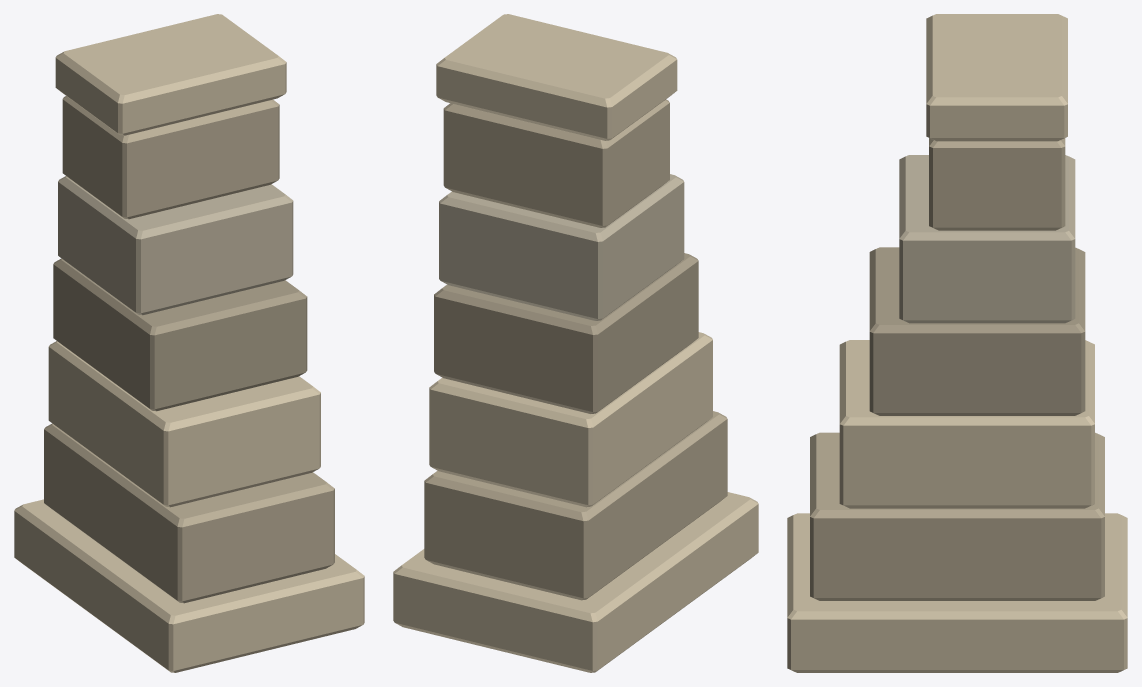
Rendered from Buttress_Stepped.fbx.
3 views of the same model, side by side, from view 1: azimuth 30°, elevation 25°; view 2: azimuth 150°, elevation 25°; view 3: azimuth 270°, elevation 25° (orthographic). The views are drawn at different scales.
Parts seen in each view (by area): view 1: Buttress_Stepped; view 2: Buttress_Stepped; view 3: Buttress_Stepped.
Part boxes in pixels (x1,y1,x2,y2): Buttress_Stepped: [14, 14, 364, 672]; Buttress_Stepped: [393, 14, 758, 672]; Buttress_Stepped: [787, 14, 1127, 672].
Bounding box in the file's own units: 0.86 × 2.21 × 1.2.
